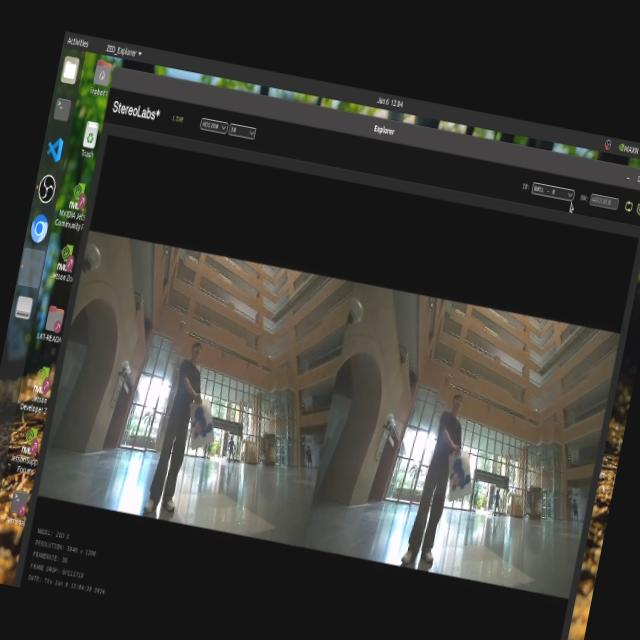blue: (178, 404, 218, 440), (443, 451, 473, 496)
